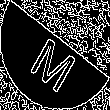M_NE: (27, 21, 83, 89)
